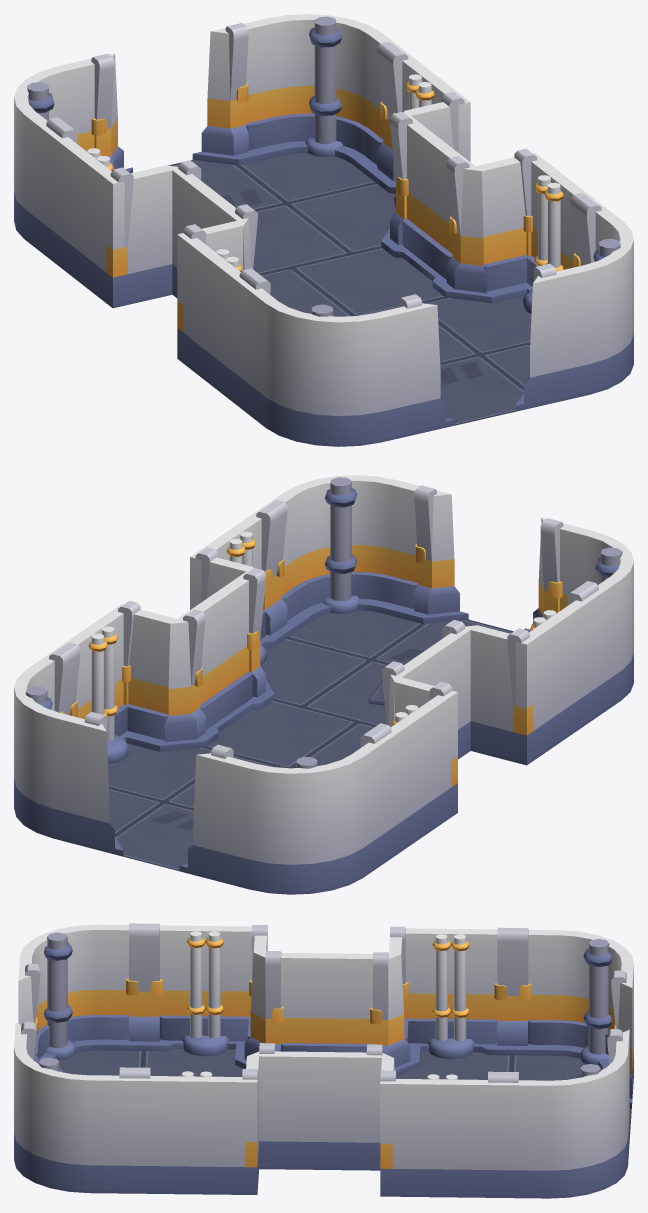
Rendered from room-wide-variation.001_lev4.glb.
3 renders of one model, top to bottom at view 1: azimuth 30°, elevation 25°; view 2: azimuth 150°, elevation 25°; view 3: azimuth 270°, elevation 25°, orthographic. The views are drawn at different scales.
Parts seen in each view (by area): view 1: room-wide-variation.001_lev4; view 2: room-wide-variation.001_lev4; view 3: room-wide-variation.001_lev4.
Part boxes in pixels (x1,y1,x2,y2): room-wide-variation.001_lev4: (14, 14, 633, 446); room-wide-variation.001_lev4: (14, 475, 633, 894); room-wide-variation.001_lev4: (14, 923, 633, 1198).
Size of the model in its own units: 37.24 by 12.75 by 60.56.
Materials: 1 (1 with a texture image).
